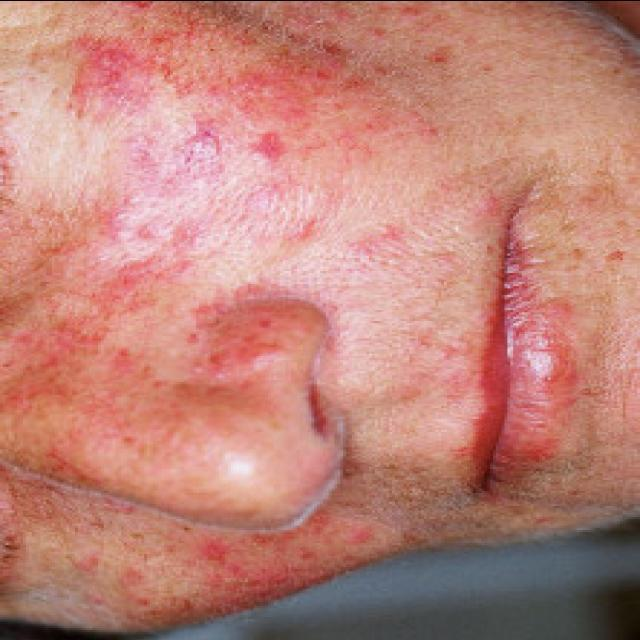Rosacea: (56, 30, 364, 246)
